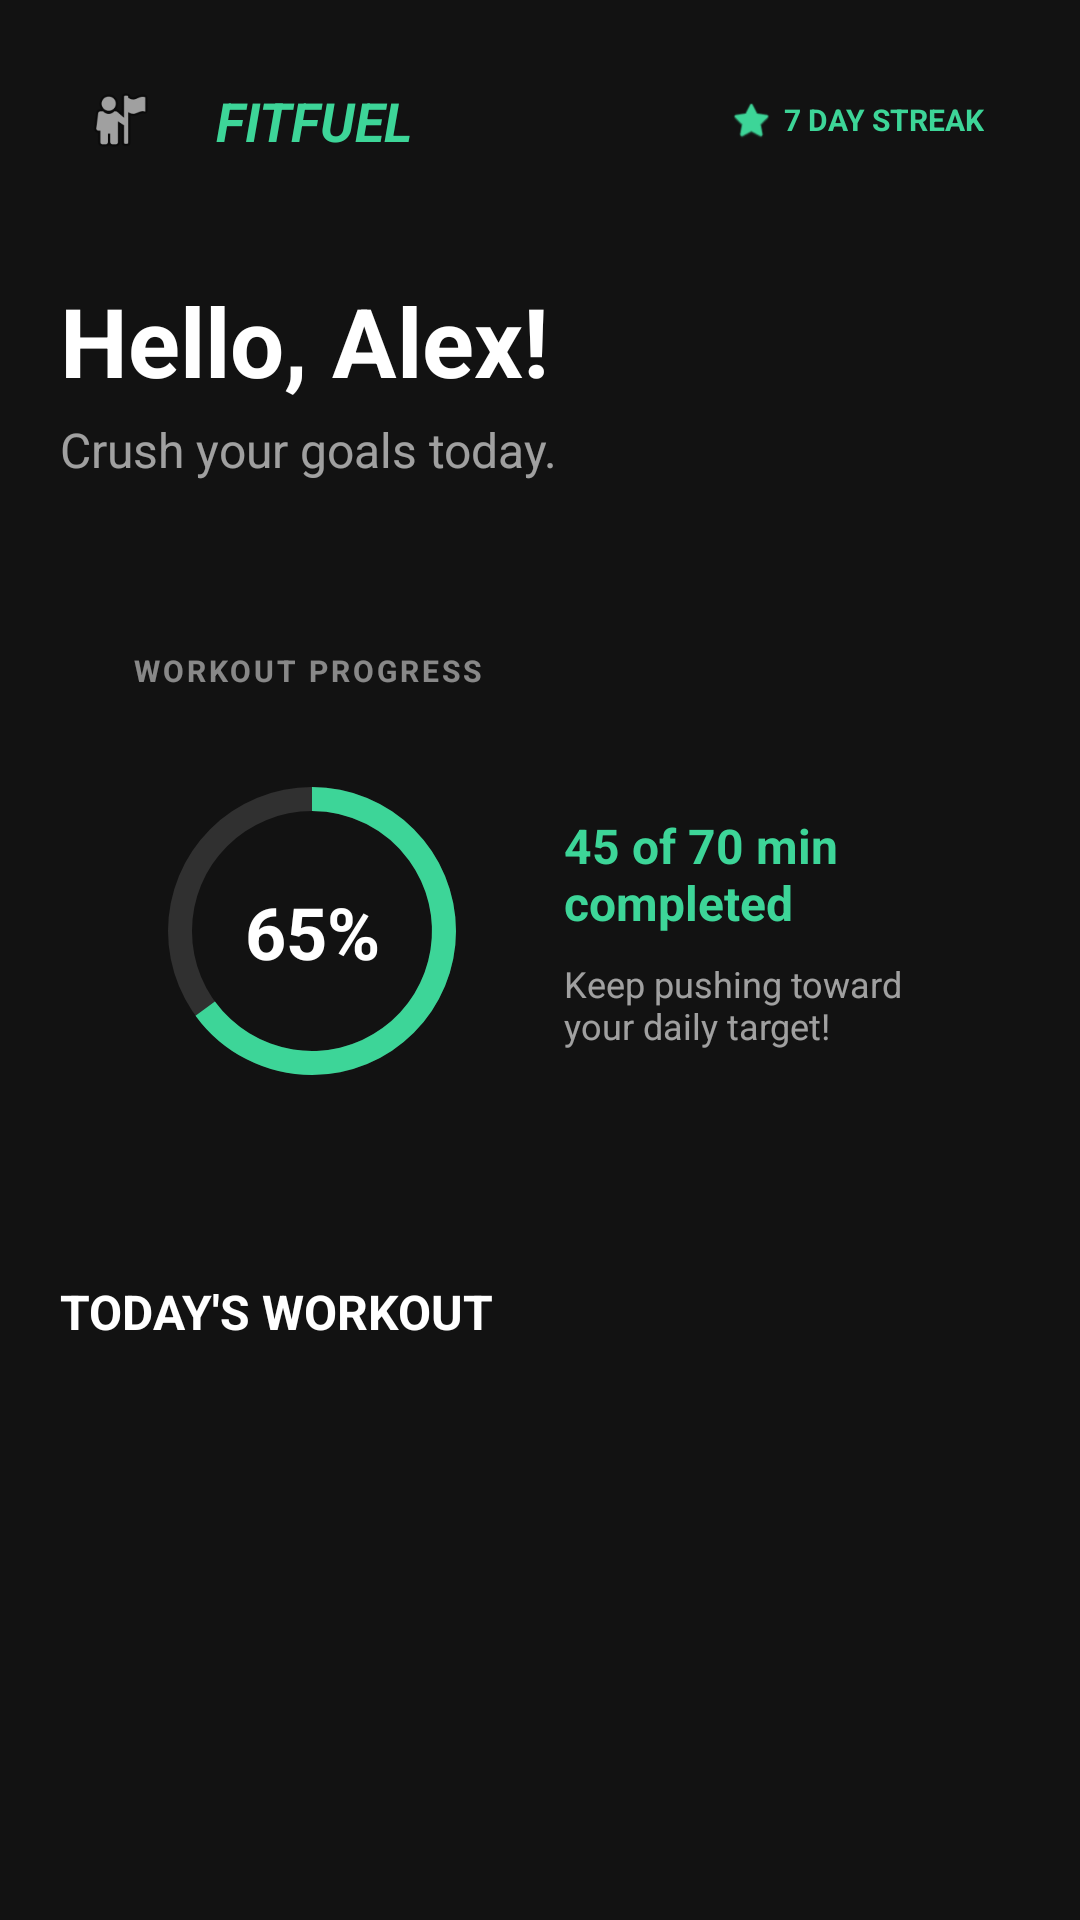

Screen size 1080px×1920px. Icon name, then its box in pixels as (x1, y1, x2, y2):
myplaces: (96, 95, 146, 145)
star on: (734, 103, 769, 137)
